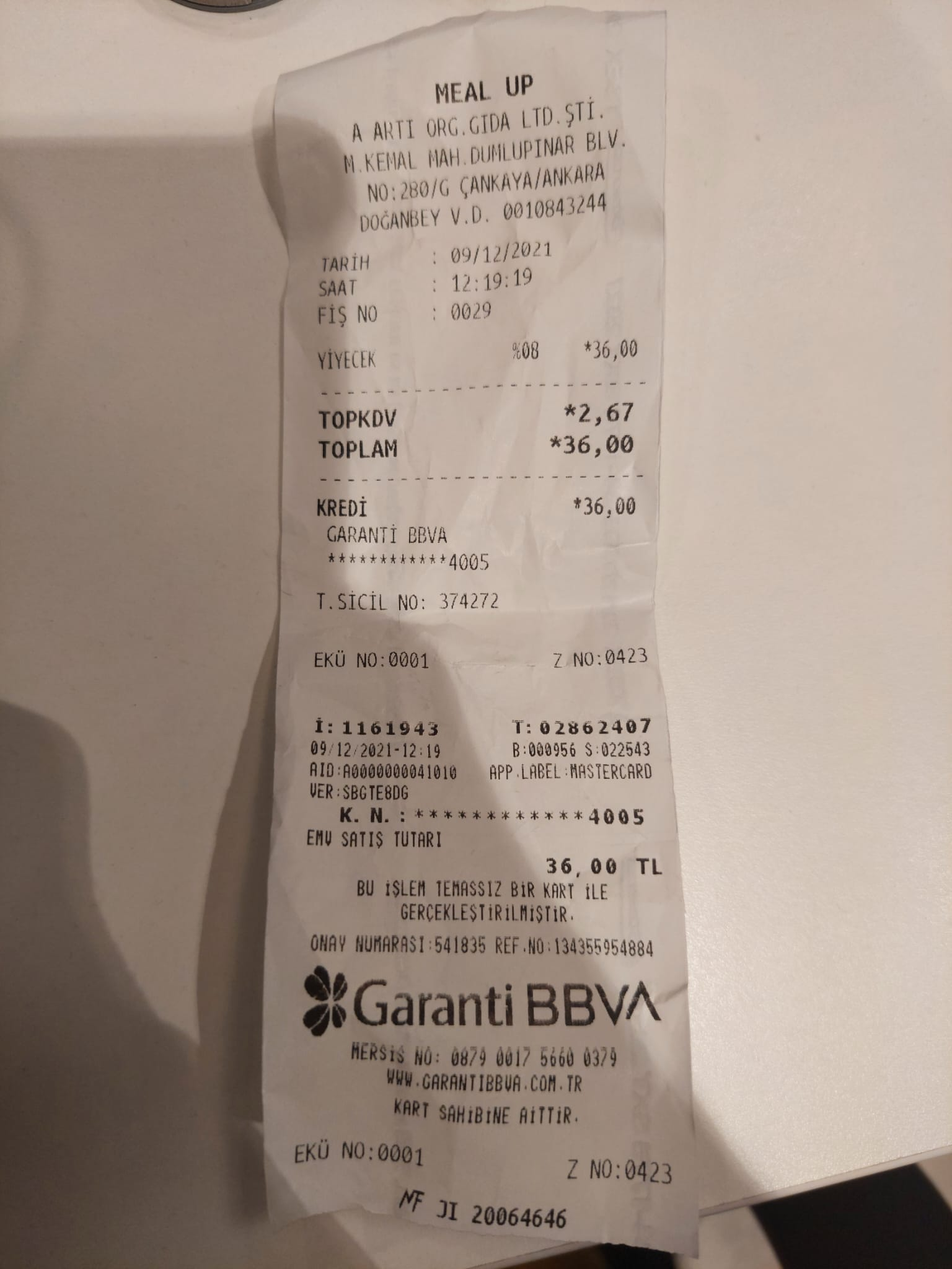date: (561, 427, 646, 466)
price: (443, 236, 554, 266)
workplace: (337, 66, 640, 205)
